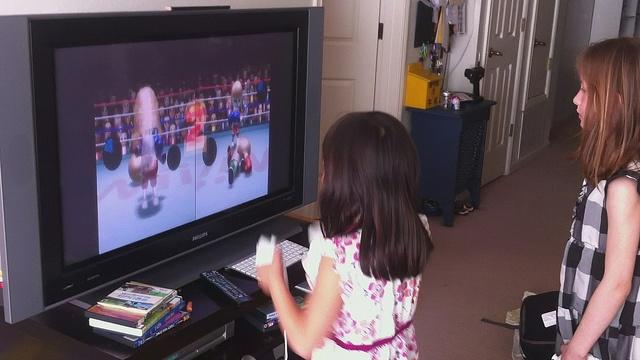AIO PC-Monitor-TV: (0, 5, 323, 324)
